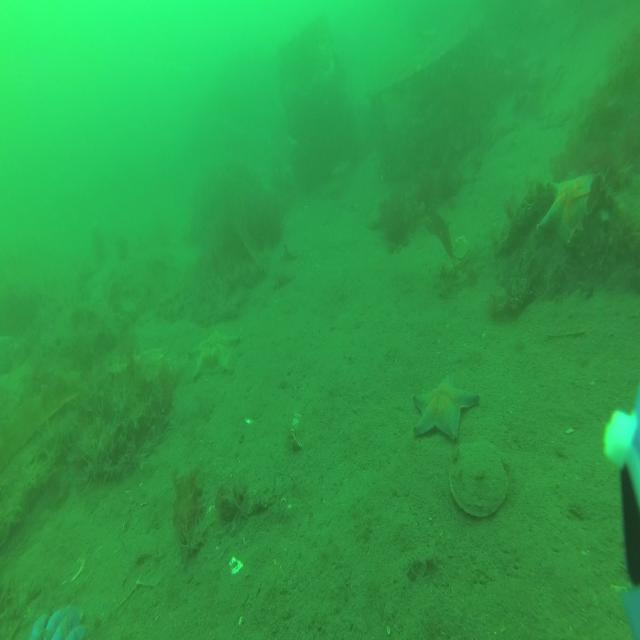scallop: (448, 443, 509, 519)
starfish: (538, 173, 599, 244), (412, 375, 479, 436), (190, 332, 243, 381)
